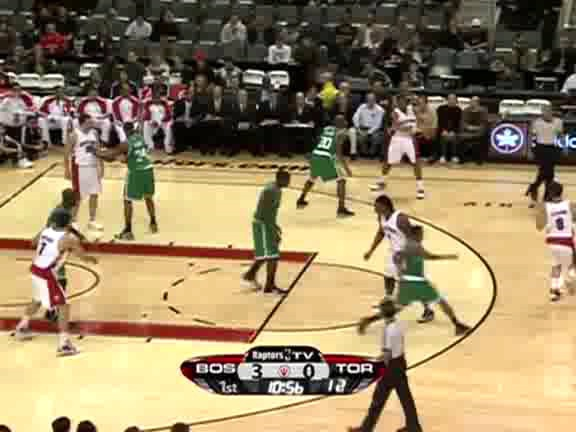person: (396, 238, 430, 319), (395, 238, 429, 319), (397, 238, 431, 319), (396, 237, 430, 318), (396, 239, 430, 320)
target_negative: (144, 245, 487, 420), (370, 124, 527, 286), (147, 260, 377, 298), (445, 368, 501, 426), (148, 384, 283, 406), (215, 421, 288, 424)
